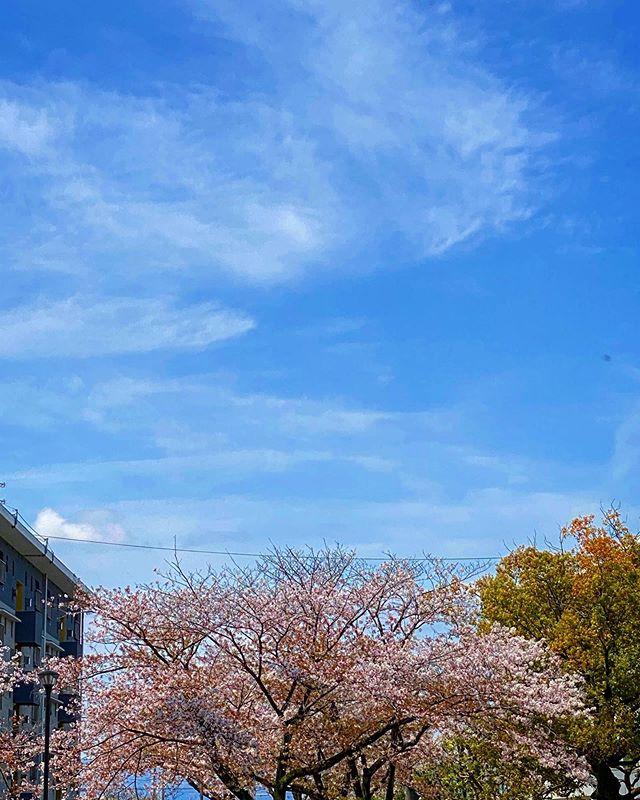sky: (11, 1, 640, 548)
tree: (51, 572, 506, 800), (503, 538, 640, 800)
